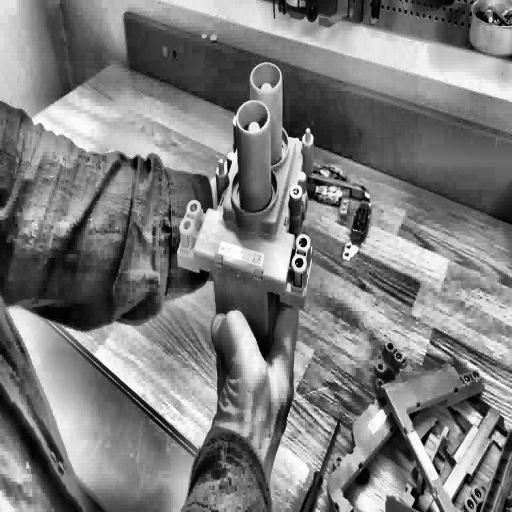connector: (178, 59, 316, 384)
